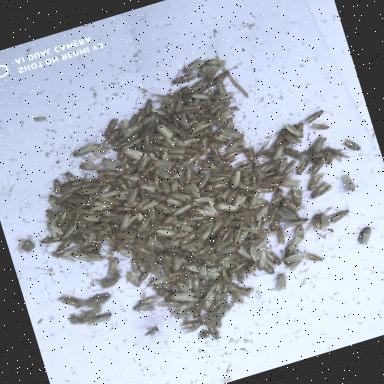pbw: (260, 244, 289, 282), (170, 215, 202, 247), (351, 217, 384, 247), (252, 252, 282, 284), (276, 232, 308, 262), (66, 137, 104, 162), (181, 82, 216, 109), (300, 168, 334, 195), (215, 214, 247, 242), (322, 204, 359, 228), (72, 152, 104, 179), (31, 232, 70, 254), (145, 86, 178, 112), (115, 142, 148, 168), (90, 115, 122, 141), (140, 183, 172, 209), (164, 65, 200, 88), (298, 102, 332, 126), (84, 193, 116, 217), (98, 254, 126, 281), (194, 287, 222, 314), (234, 240, 262, 267), (113, 208, 142, 234), (167, 286, 201, 308), (212, 248, 246, 270), (276, 172, 310, 194), (204, 125, 236, 148), (153, 293, 185, 316), (223, 165, 250, 192), (304, 132, 332, 158), (194, 198, 222, 224), (166, 186, 194, 212), (174, 164, 200, 192), (290, 154, 320, 178), (208, 194, 238, 218), (306, 178, 337, 201), (115, 120, 147, 142), (150, 118, 177, 144), (263, 186, 290, 212), (318, 139, 342, 168), (50, 232, 79, 256), (170, 105, 194, 134), (178, 53, 208, 76), (220, 131, 250, 154), (280, 246, 314, 266), (209, 242, 243, 262), (325, 140, 351, 166), (226, 188, 254, 212), (275, 200, 303, 224), (83, 309, 115, 330), (304, 156, 332, 180), (54, 289, 84, 311), (120, 181, 145, 207), (199, 320, 224, 346), (286, 183, 310, 210), (272, 267, 296, 294), (129, 152, 157, 175), (185, 114, 214, 136), (212, 102, 241, 124), (178, 314, 208, 335), (130, 212, 156, 236), (117, 166, 143, 190), (42, 216, 66, 242), (308, 208, 332, 234), (340, 132, 366, 156), (149, 151, 176, 174), (162, 175, 185, 202), (185, 244, 216, 264), (180, 146, 208, 168), (203, 228, 231, 250), (114, 242, 142, 264), (200, 61, 228, 83), (162, 144, 190, 166), (236, 138, 258, 166), (250, 138, 278, 160), (200, 52, 228, 74), (218, 113, 240, 141), (166, 302, 196, 322), (221, 227, 246, 251), (72, 180, 102, 200), (232, 263, 257, 287), (283, 118, 306, 144), (284, 219, 310, 242), (192, 222, 218, 245), (264, 129, 291, 151), (107, 135, 138, 154), (58, 172, 86, 193), (224, 257, 252, 278), (281, 141, 305, 165), (182, 178, 206, 202), (134, 176, 160, 198), (122, 266, 144, 292), (230, 226, 252, 252), (50, 187, 80, 206), (176, 233, 206, 252), (278, 255, 308, 274), (137, 322, 165, 342), (76, 207, 104, 227), (148, 222, 176, 242), (260, 203, 284, 226), (98, 153, 121, 177), (88, 138, 113, 160), (42, 190, 64, 215), (217, 208, 243, 229), (118, 232, 148, 250), (253, 180, 283, 198), (157, 173, 176, 201), (136, 195, 164, 214), (168, 201, 196, 220), (120, 110, 144, 132), (192, 170, 216, 192), (53, 248, 77, 270), (164, 252, 188, 274), (51, 208, 75, 230), (303, 246, 327, 268), (280, 128, 304, 150), (250, 198, 274, 220), (90, 180, 116, 200), (298, 144, 324, 164), (132, 298, 158, 318), (208, 164, 235, 183), (136, 98, 158, 121), (241, 218, 264, 240), (132, 292, 160, 310), (186, 190, 214, 208), (148, 248, 173, 268), (250, 234, 275, 254), (206, 90, 231, 110), (256, 156, 282, 175), (252, 161, 270, 188), (306, 118, 333, 136), (96, 230, 118, 252), (265, 211, 287, 233), (268, 142, 290, 164), (202, 156, 224, 178), (252, 249, 273, 272), (180, 258, 204, 278), (146, 102, 170, 122), (279, 156, 303, 176), (154, 284, 178, 304), (160, 192, 184, 212), (56, 222, 80, 242), (218, 262, 237, 287), (94, 205, 119, 224), (96, 184, 122, 202), (219, 144, 245, 162), (66, 248, 89, 268), (184, 208, 208, 227), (188, 96, 207, 120), (212, 73, 230, 98), (95, 170, 120, 188), (132, 206, 150, 231), (154, 212, 179, 230), (222, 278, 242, 300), (146, 232, 166, 254), (172, 277, 192, 298), (132, 104, 152, 125), (60, 166, 80, 187), (72, 243, 100, 258), (43, 206, 62, 228), (81, 227, 100, 249), (152, 164, 172, 184), (135, 264, 156, 283), (50, 173, 68, 195), (187, 269, 205, 291), (196, 261, 213, 284), (247, 241, 263, 265), (144, 274, 168, 290), (244, 189, 263, 209), (196, 133, 214, 153), (154, 278, 174, 296), (128, 256, 144, 278), (272, 224, 288, 246), (206, 137, 222, 158), (92, 227, 114, 242), (159, 134, 177, 152), (181, 133, 204, 147), (210, 278, 226, 297), (168, 282, 184, 300), (218, 282, 234, 300), (204, 262, 224, 276), (318, 210, 332, 229), (220, 154, 239, 168)
